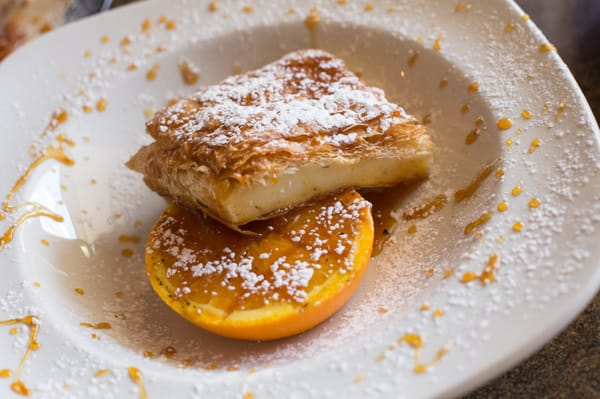taco: (143, 187, 375, 343)
